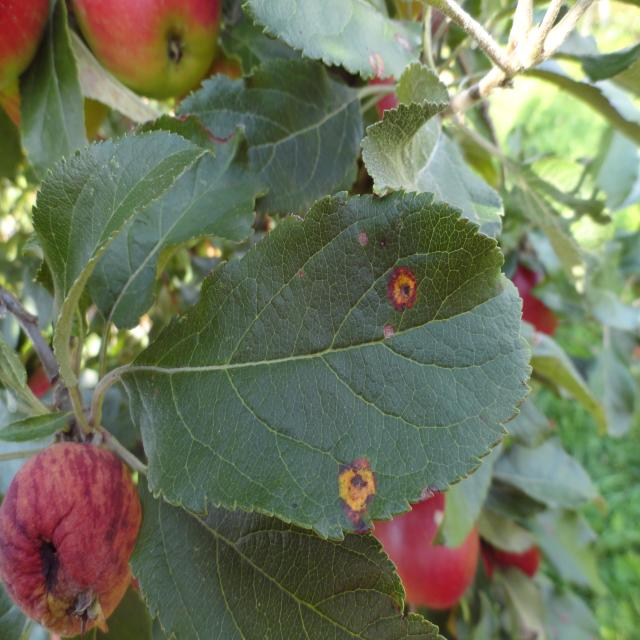Rust: (326, 454, 394, 533), (374, 256, 429, 323)
